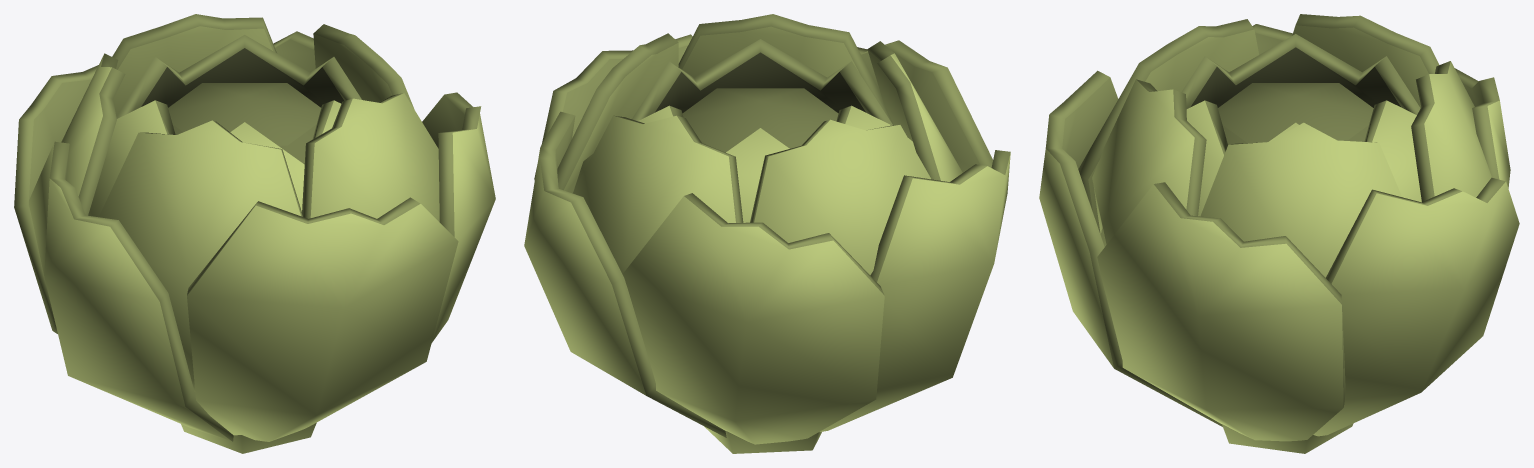
The model's file is Cabbage.glb.
3 views of the same model, side by side, from view 1: azimuth 30°, elevation 25°; view 2: azimuth 150°, elevation 25°; view 3: azimuth 270°, elevation 25° (orthographic).
Parts seen in each view (by area): view 1: cabbage; view 2: cabbage; view 3: cabbage.
Boxes of the visible parts, bbox=[...] form: cabbage: bbox=[14, 14, 495, 453]; cabbage: bbox=[524, 14, 1010, 453]; cabbage: bbox=[1039, 14, 1519, 453].
Size of the model in its own units: 2.86 by 2.29 by 2.76.
1 material, 1 textured.
